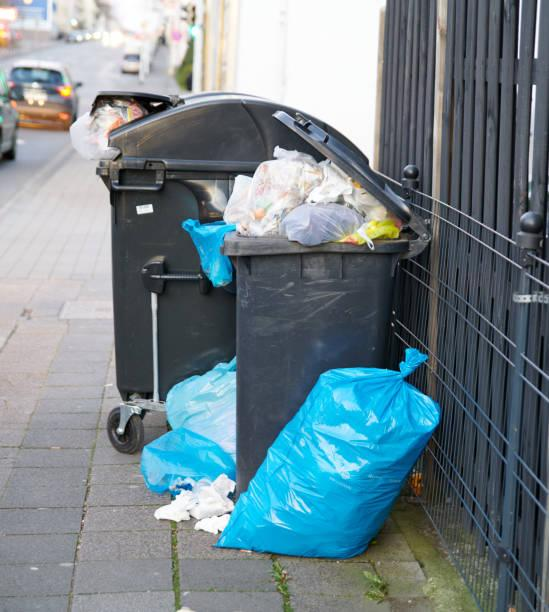trash: (213, 331, 446, 561), (101, 348, 254, 546), (189, 119, 401, 253)
trash_can_overflow: (57, 66, 468, 574)
